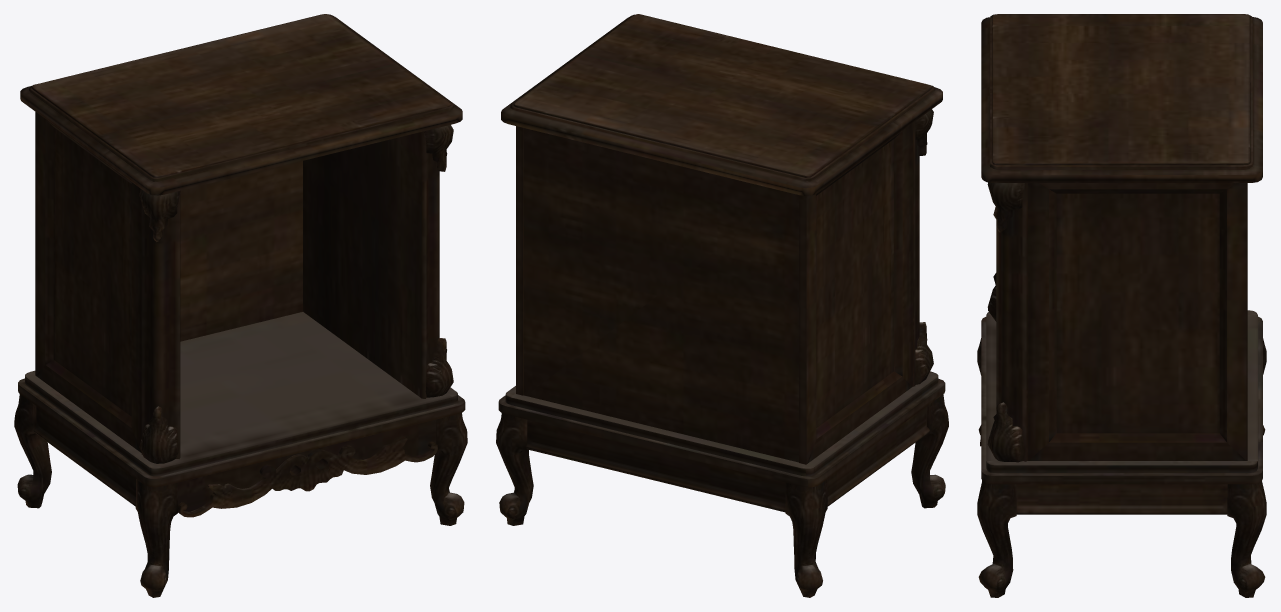
The model's file is ClassicNightstand_01.glb.
3 views of the same model, side by side, from view 1: azimuth 30°, elevation 25°; view 2: azimuth 150°, elevation 25°; view 3: azimuth 270°, elevation 25° (orthographic). The views are drawn at different scales.
Parts seen in each view (by area): view 1: ClassicNightstand_01; view 2: ClassicNightstand_01; view 3: ClassicNightstand_01.
Boxes of the visible parts, x1=… form: ClassicNightstand_01: x1=14, y1=14, x2=467, y2=597; ClassicNightstand_01: x1=496, y1=14, x2=948, y2=597; ClassicNightstand_01: x1=977, y1=14, x2=1266, y2=597.
Size of the model in its own units: 0.5676 by 0.7 by 0.4244.
Materials: 1 (1 with a texture image).
